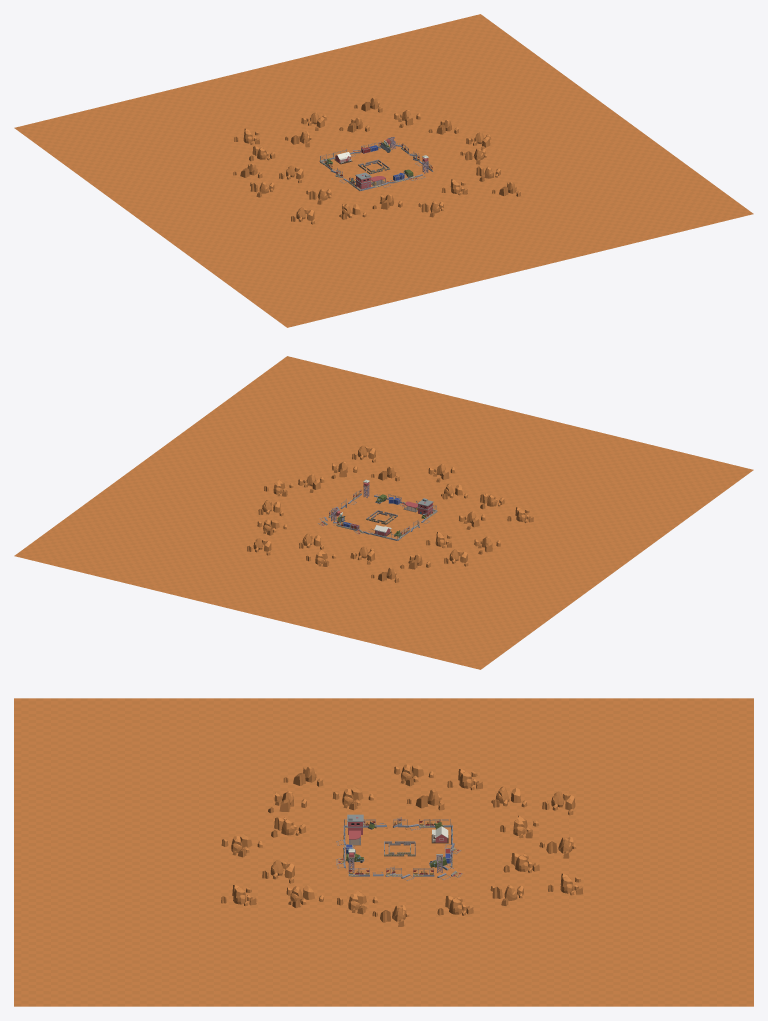
File: MilitaryBase.fbx
3 renders of one model, top to bottom at view 1: azimuth 30°, elevation 25°; view 2: azimuth 150°, elevation 25°; view 3: azimuth 270°, elevation 25°, orthographic. The views are drawn at different scales.
Parts seen in each view (by area): view 1: Ground; view 2: Ground; view 3: Ground.
Boxes of the visible parts, x1,y1,x2,y2 form: Ground: [14, 14, 753, 327]; Ground: [14, 356, 753, 669]; Ground: [14, 698, 753, 1006].
Size of the model in its own units: 458 by 16.26 by 464.
4 materials, 4 textured.
